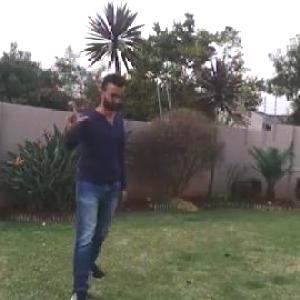land_hand: (62, 94, 98, 130)
